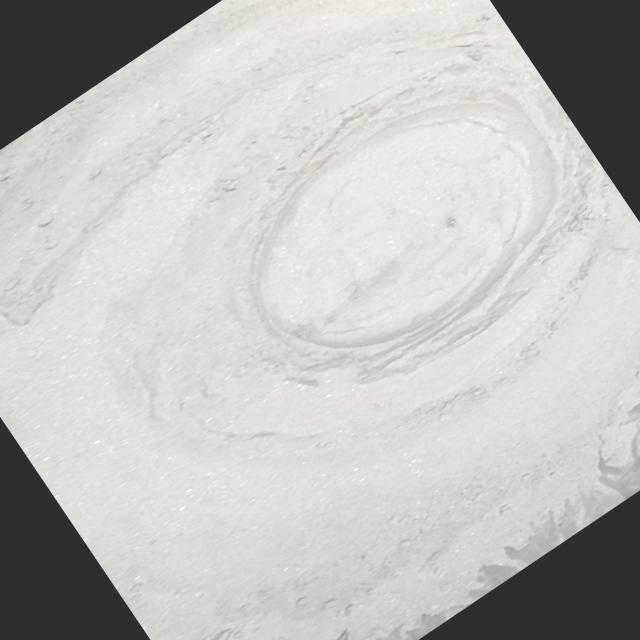C40: (262, 102, 556, 350)
